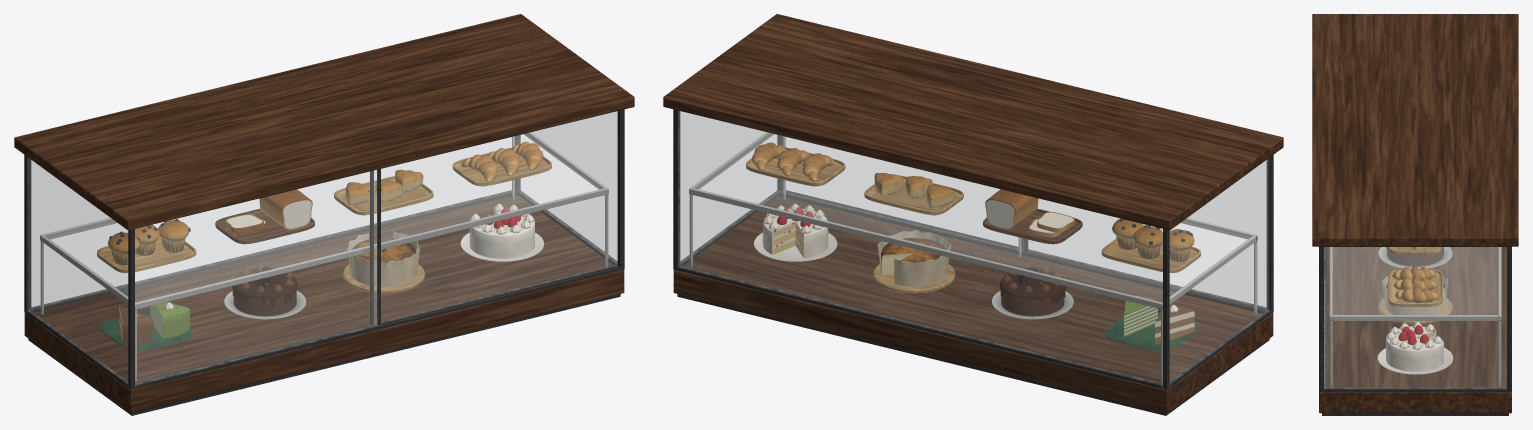
The model's file is PH_Showcase__Body.fbx.
3 views of the same model, side by side, from view 1: azimuth 30°, elevation 25°; view 2: azimuth 150°, elevation 25°; view 3: azimuth 270°, elevation 25° (orthographic). The views are drawn at different scales.
Parts seen in each view (by area): view 1: PH_Showcase__Body; view 2: PH_Showcase__Body; view 3: PH_Showcase__Body.
Part boxes in pixels (box(x1,y1,x2,y2)): PH_Showcase__Body: box(14, 14, 634, 415); PH_Showcase__Body: box(663, 14, 1283, 415); PH_Showcase__Body: box(1312, 14, 1518, 415).
Size of the model in its own units: 1.54 by 0.585 by 0.6.
